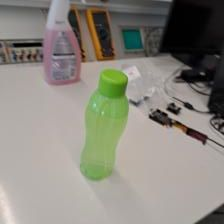bottle: (77, 67, 128, 181)
